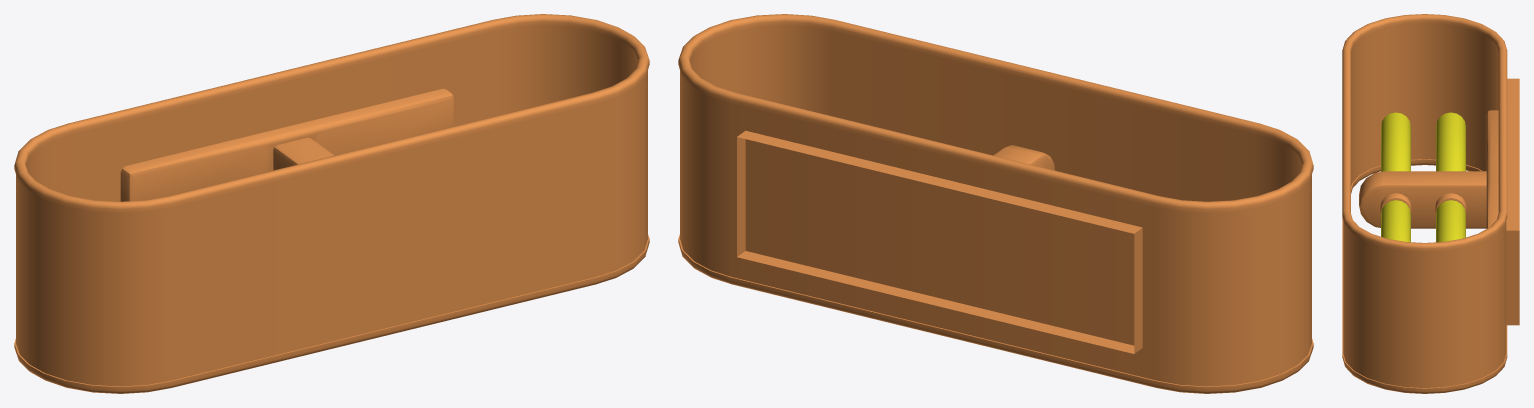
File: Wall_Lamp.fbx
3 views of the same model, side by side, from view 1: azimuth 30°, elevation 25°; view 2: azimuth 150°, elevation 25°; view 3: azimuth 270°, elevation 25° (orthographic). The views are drawn at different scales.
Parts seen in each view (by area): view 1: Wall_Lamp; view 2: Wall_Lamp; view 3: Wall_Lamp.
Part boxes in pixels (<box>): Wall_Lamp: <box>14,14,649,393</box>; Wall_Lamp: <box>678,14,1313,393</box>; Wall_Lamp: <box>1342,14,1519,393</box>.
Size of the model in its own units: 50 by 15 by 16.12.
